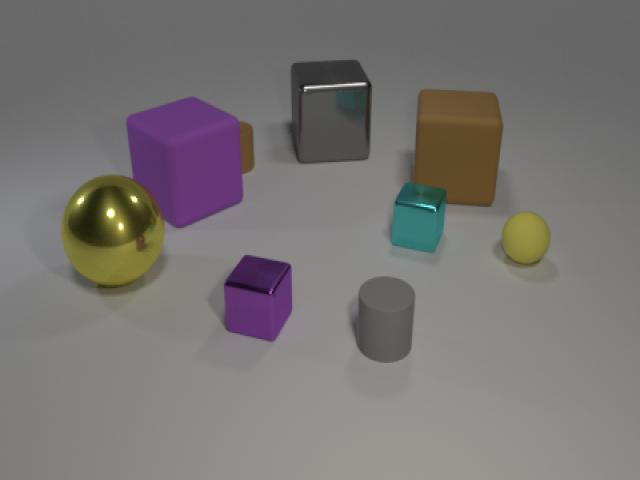cylinder: (353, 268, 418, 365), (218, 117, 261, 180)
round ball: (58, 167, 173, 294), (495, 204, 557, 277)
